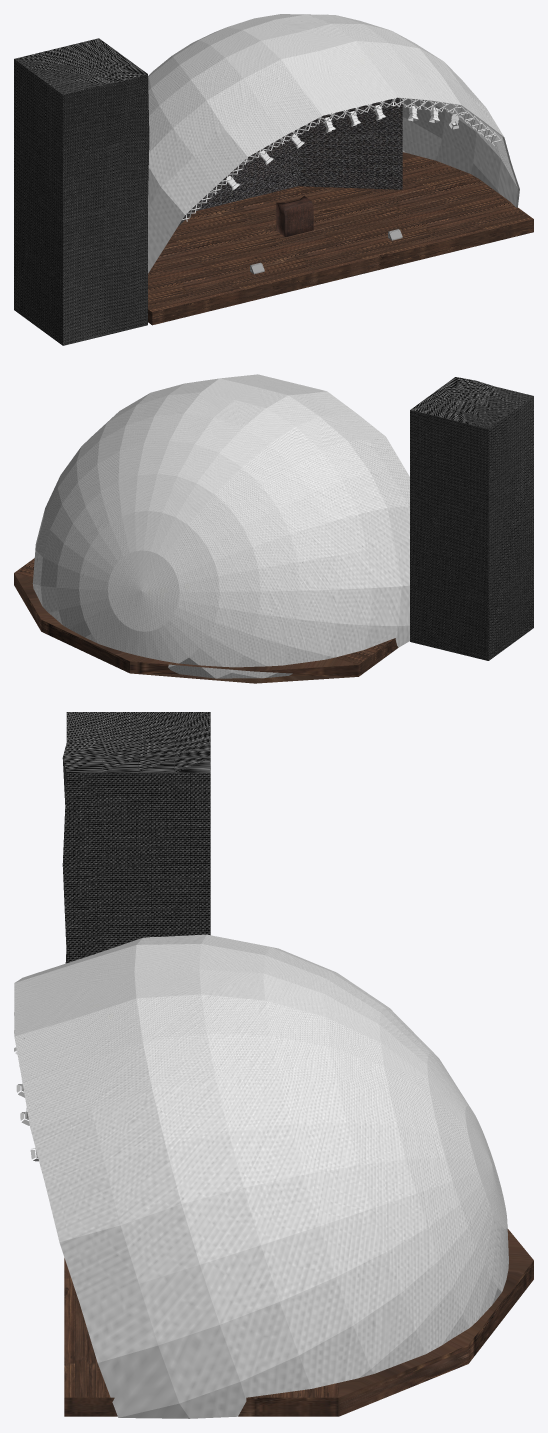
The model's file is primavera.fbx.
3 views of the same model, one above another, from view 1: azimuth 30°, elevation 25°; view 2: azimuth 150°, elevation 25°; view 3: azimuth 270°, elevation 25° (orthographic). The views are drawn at different scales.
Visible parts, largest first — view 1: Sphere, Cube.002, Cube, pCube135, Cube.001, pCube135.011; view 2: Sphere, Cube.002, Cube; view 3: Sphere, Cube.002, Cube.
Part boxes in pixels (bbox=[...]): Sphere: bbox=[148, 14, 519, 273]; Cube.002: bbox=[14, 38, 149, 345]; Cube: bbox=[148, 152, 533, 325]; pCube135: bbox=[178, 97, 402, 226]; Cube.001: bbox=[276, 196, 313, 237]; pCube135.011: bbox=[454, 105, 501, 145]; Sphere: bbox=[32, 374, 409, 678]; Cube.002: bbox=[410, 377, 533, 660]; Cube: bbox=[14, 558, 398, 683]; Sphere: bbox=[14, 934, 508, 1418]; Cube.002: bbox=[62, 712, 210, 963]; Cube: bbox=[64, 1229, 533, 1416].
Bounding box in the file's own units: 3398 × 1726 × 2199.
